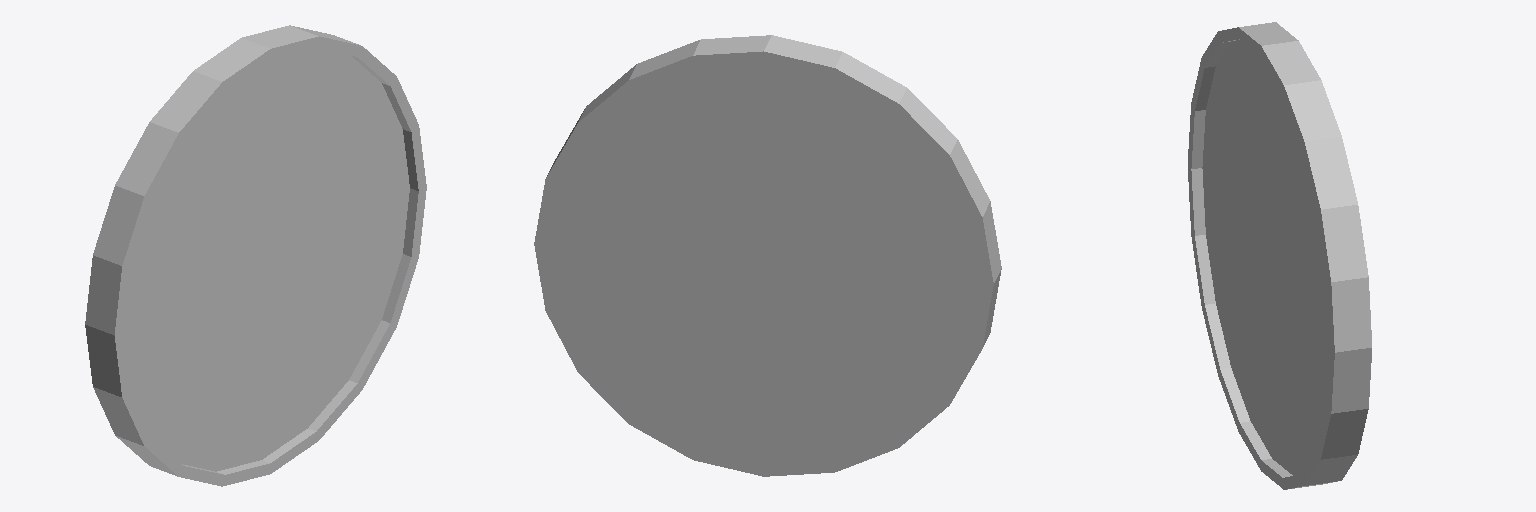
Rendered from coin 8.obj.
The picture shows the model from 3 angles: view 1: azimuth 30°, elevation 25°; view 2: azimuth 150°, elevation 25°; view 3: azimuth 270°, elevation 25°; orthographic projection.
Visible parts, largest first — view 1: pCylinder1; view 2: pCylinder1; view 3: pCylinder1.
Boxes of the visible parts, <box> form: pCylinder1: <box>85,25,426,486</box>; pCylinder1: <box>534,35,1001,476</box>; pCylinder1: <box>1188,22,1371,489</box>.
Size of the model in its own units: 1.95 by 2 by 0.7876.